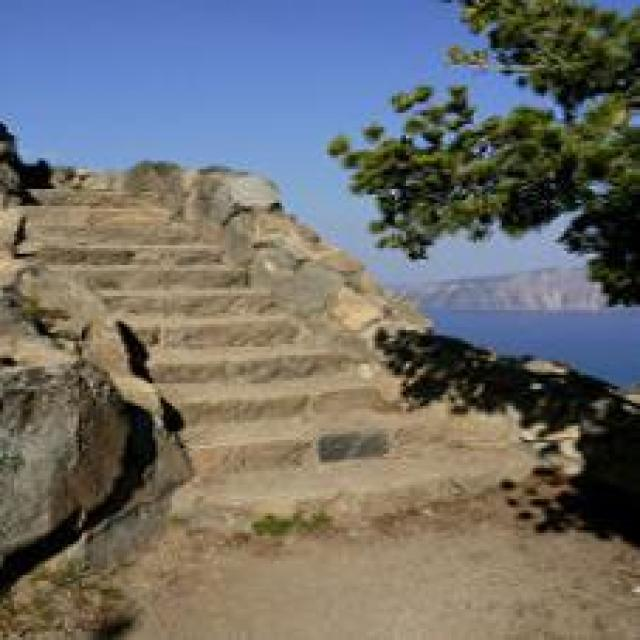upstair: (32, 184, 489, 517)
